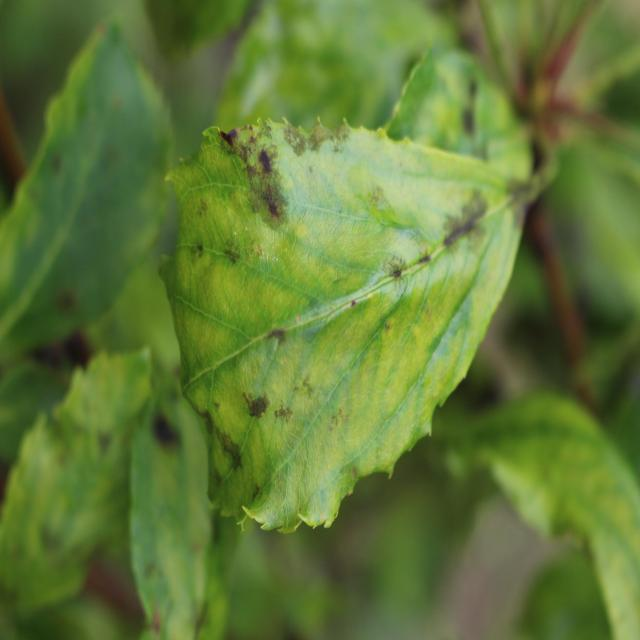scab: (211, 106, 365, 238), (432, 150, 556, 269), (227, 374, 309, 449), (180, 219, 262, 288), (328, 402, 378, 515), (141, 393, 187, 466), (209, 428, 255, 484), (250, 325, 297, 362), (384, 248, 416, 294)
